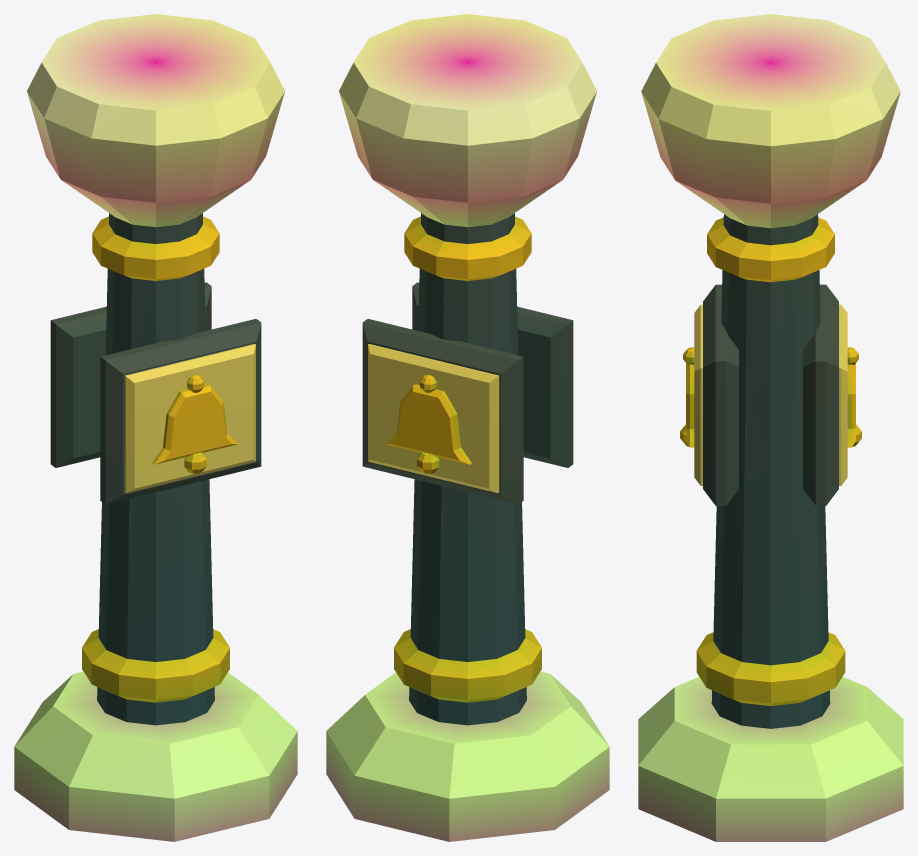
File: Service_BellPost.fbx
3 views of the same model, side by side, from view 1: azimuth 30°, elevation 25°; view 2: azimuth 150°, elevation 25°; view 3: azimuth 270°, elevation 25° (orthographic).
Visible parts, largest first — view 1: Service_BellPost; view 2: Service_BellPost; view 3: Service_BellPost.
Part boxes in pixels (left/top/right/bottom): Service_BellPost: left=14, top=14, right=297, bottom=841; Service_BellPost: left=326, top=14, right=609, bottom=841; Service_BellPost: left=638, top=14, right=903, bottom=841.
Bounding box in the file's own units: 0.2494 × 0.75 × 0.2494.
